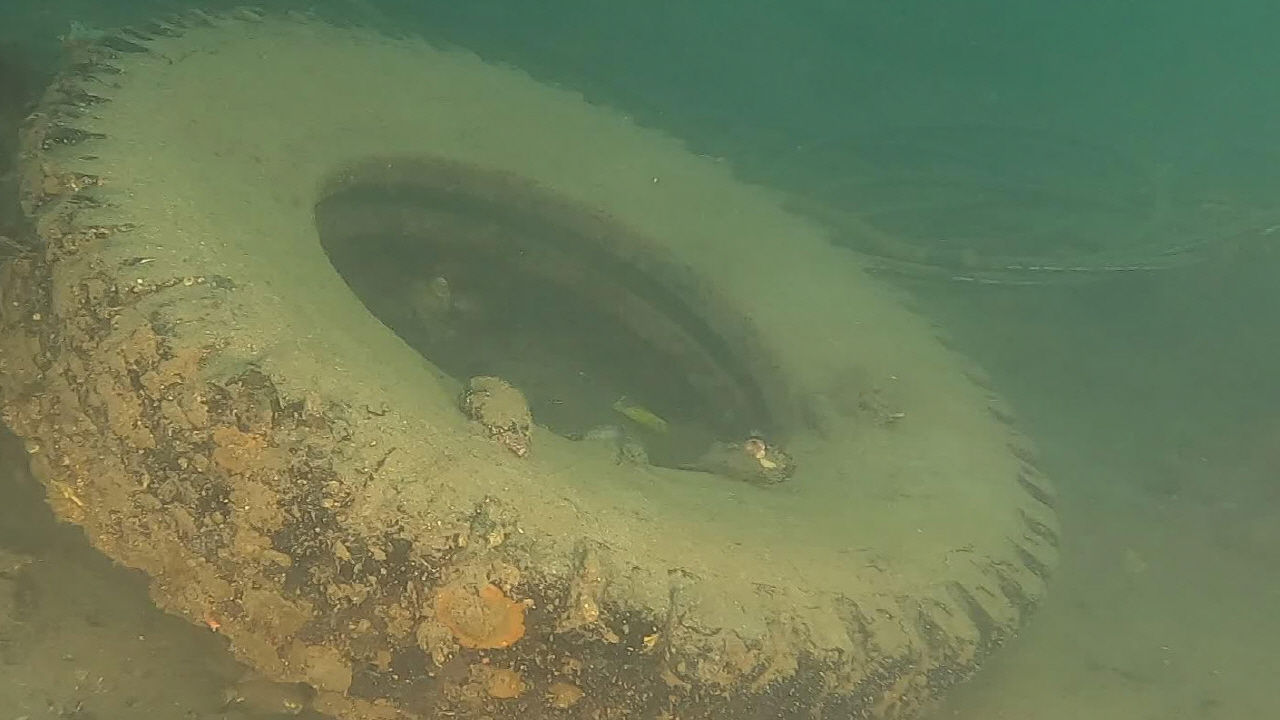tire: (0, 4, 1061, 720)
